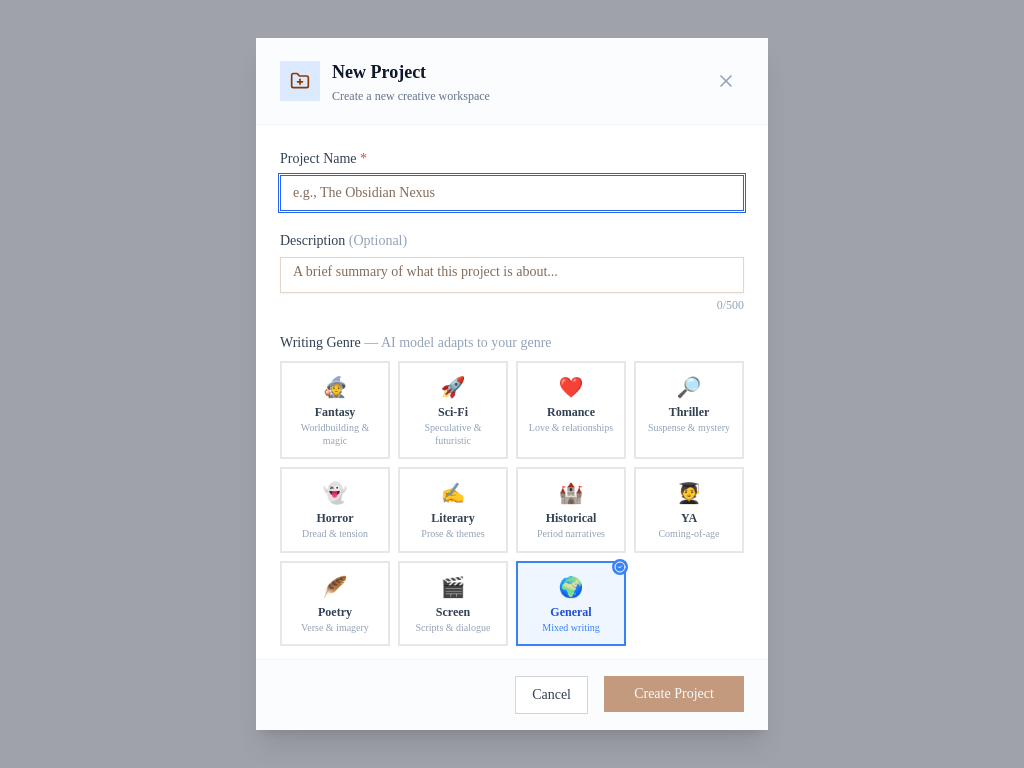
Test: Project Creation Workflow › Loading state › shows loading state while submitting
Type "Test Project" into the field labelled "Project Name *" at (512, 193), box [280,175,744,211]
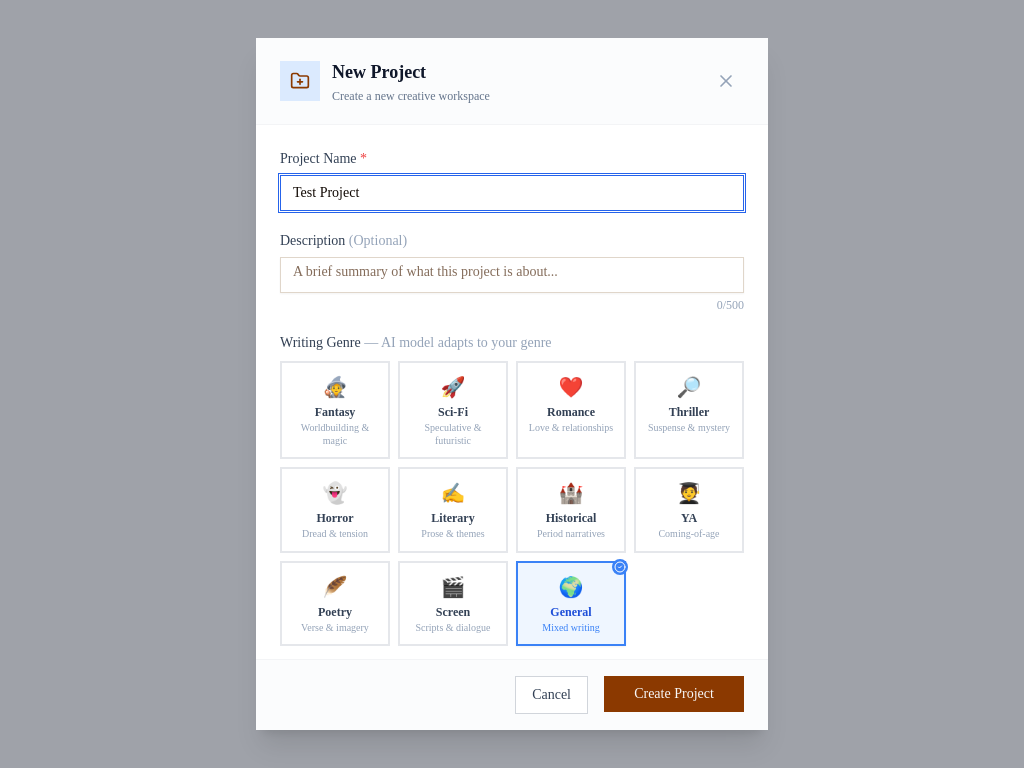
Click the button "Create Project" at (674, 694), box [604,676,744,712]
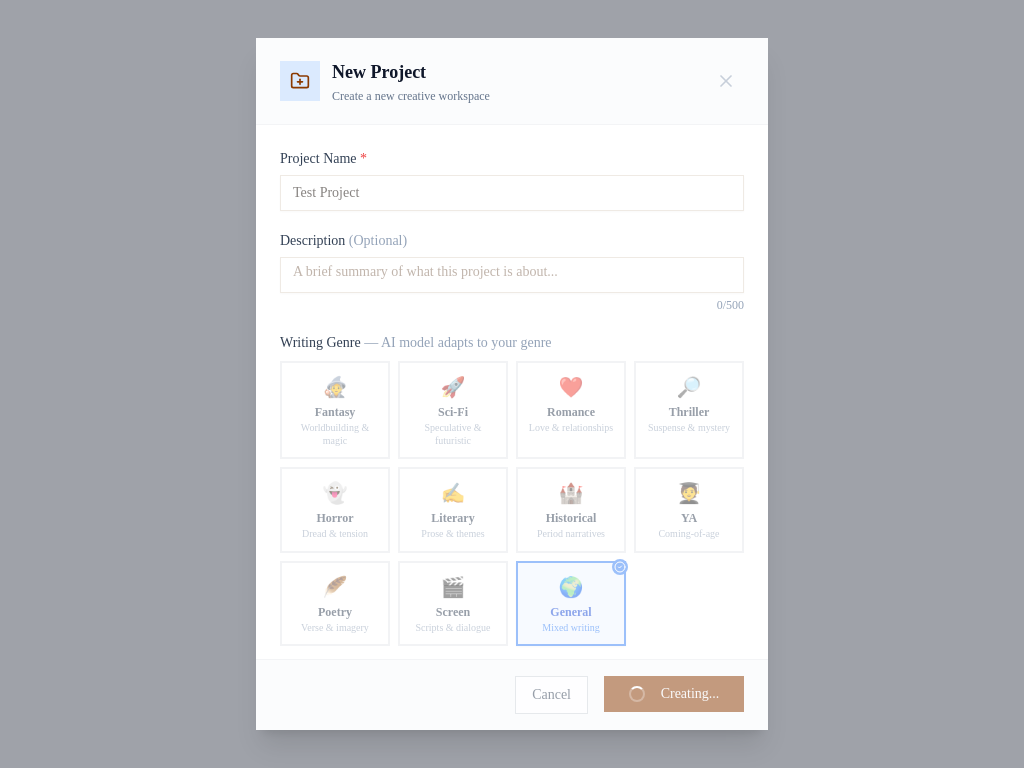
Expected: the button "Creating..." is shown, [604,676,744,712]
